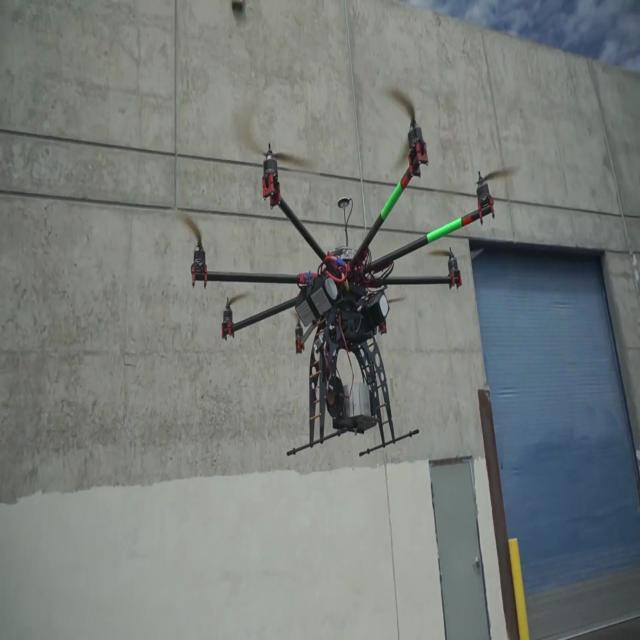drone: (170, 99, 502, 479)
